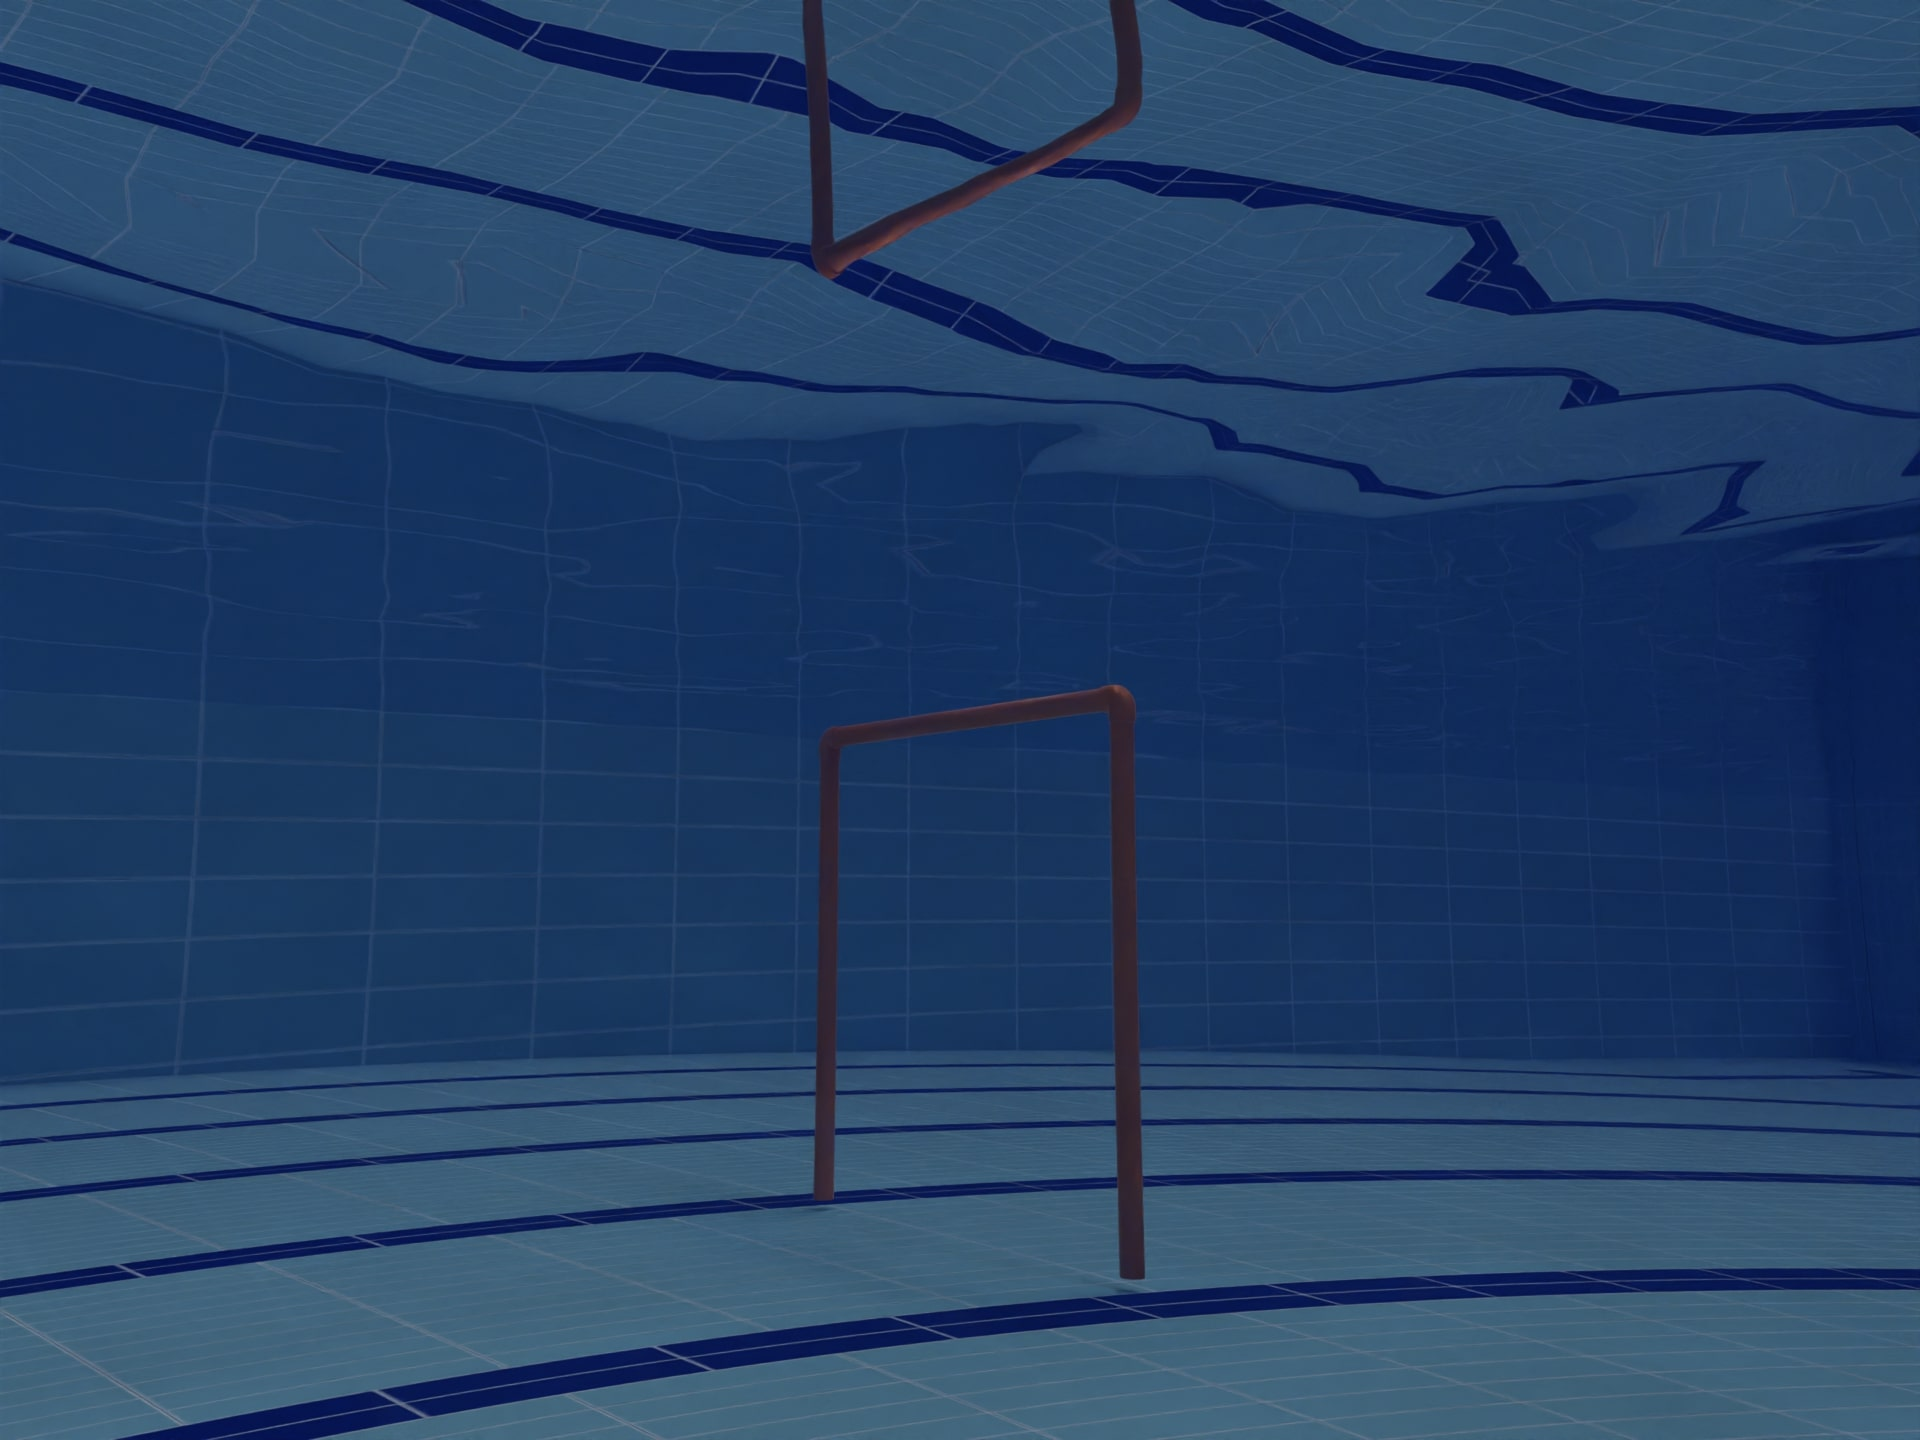gate: (785, 650, 1235, 1322)
